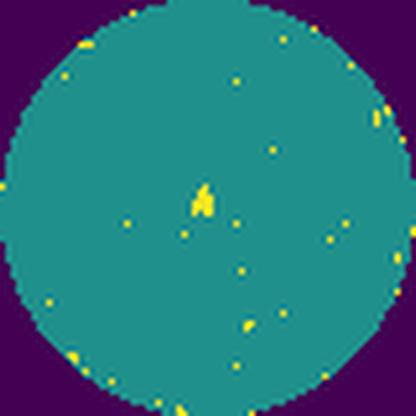Center: (190, 182, 216, 220)
